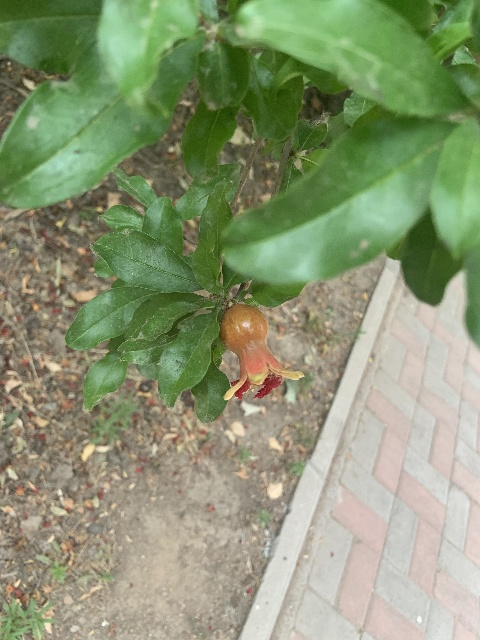early-fruit: (219, 304, 305, 402)
